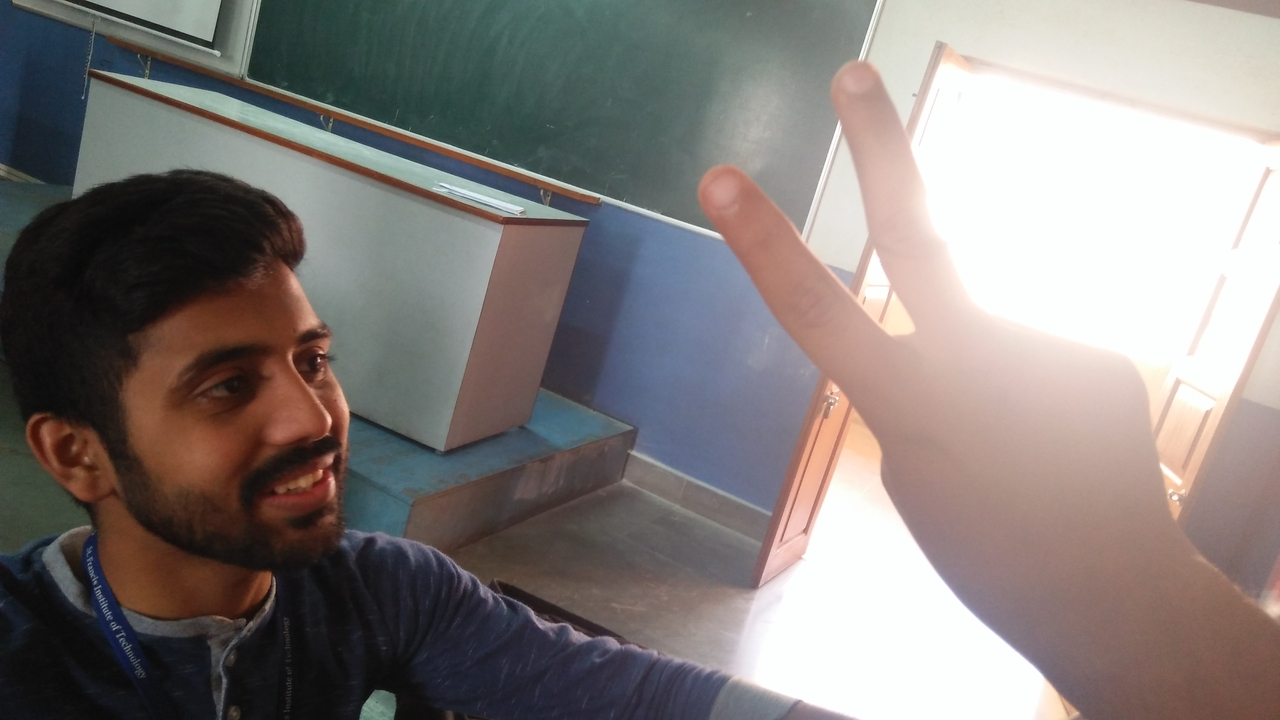fingertip: (696, 160, 760, 214), (830, 56, 890, 106)
